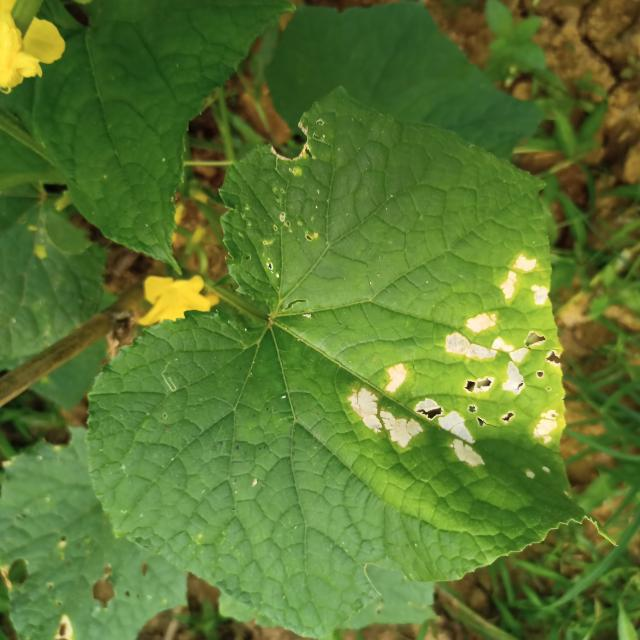disease_cucumber: (341, 245, 585, 496)
